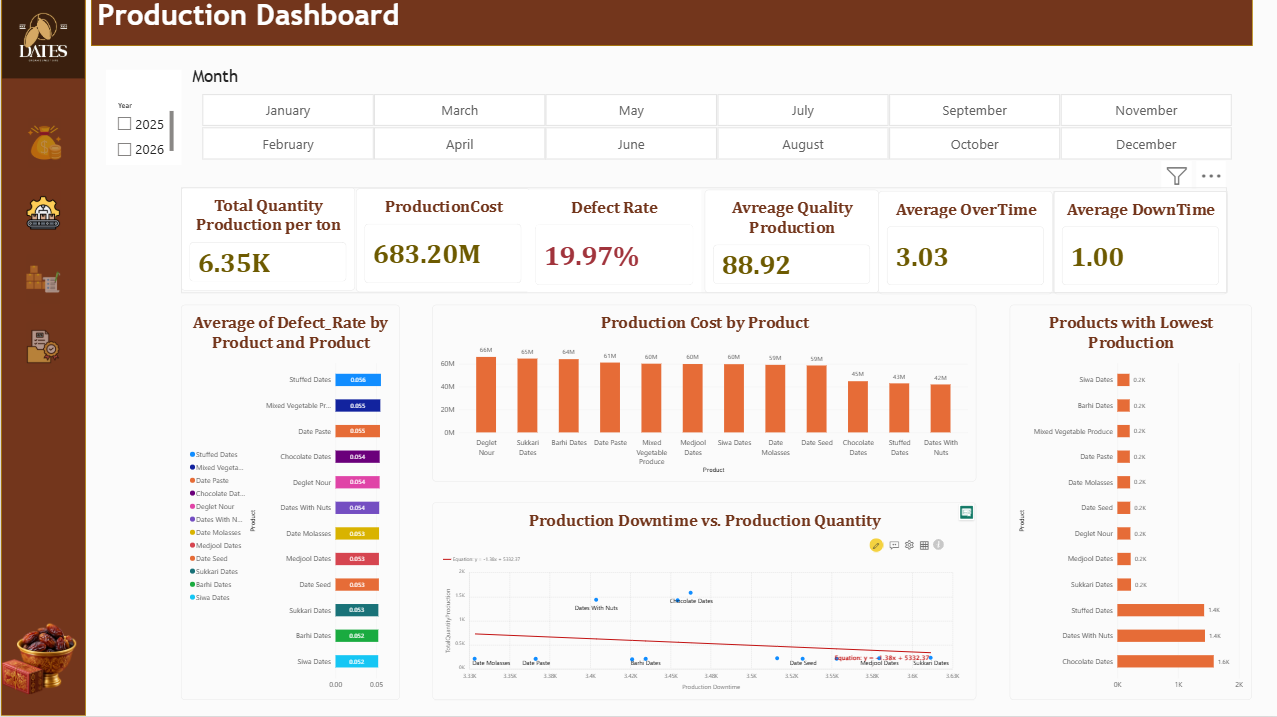

This screenshot's page, from the dashboard's own definition file:
{"tool":"powerbi","page":{"name":"Production","canvas":[1920,1080],"ordinal":2},"visuals":[{"type":"shape","box":[178,0,1741,85],"z":0},{"type":"shape","box":[0,0,170,1081],"z":1000},{"type":"image","box":[0,0,170,165],"z":2000},{"type":"textbox","title":"Production Dashboard","box":[191.7,1.7,741.7,116.7],"z":3000},{"type":"cardVisual","title":"Average DownTime","fields":{"Data":["MyMeasures.AVGDowntown"]},"box":[240,118.3,251.7,170],"z":4000},{"type":"cardVisual","title":"Average OverTime ","fields":{"Data":["MyMeasures.AVGOvertTime"]},"box":[491.7,118.3,241.7,170],"z":5000},{"type":"columnChart","title":"Production Cost by Product","fields":{"Category":["productDim.Product"],"Y":["MyMeasures.ProductioCost"]},"box":[232,327.9,612.2,272.1],"z":6000},{"type":"cardVisual","title":"Avreage Quality Production","fields":{"Data":["MyMeasures.AVGQuality"]},"box":[746,110,252,172],"z":8000},{"type":"image","box":[10.5,842.4,150,235.7],"z":9000},{"type":"barChart","title":"Products with Lowest Production","fields":{"Category":["productDim.Product"],"Y":["MyMeasures.TotalQuantityProduction"]},"box":[1411.7,336.7,403.3,711.7],"z":10000},{"type":"cardVisual","title":"ProductionCost","fields":{"Data":["MyMeasures.ProductioCost"]},"box":[1022.1,115.1,245,165],"z":11000},{"type":"image","box":[413.3,196.7,66.7,73.3],"z":12000},{"type":"image","box":[660,203.3,58.3,71.7],"z":13000},{"type":"image","box":[917.4,205.8,62.8,69.8],"z":14000},{"type":"cardVisual","title":"Defect Rate","fields":{"Data":["MyMeasures.DefectRate"]},"box":[1297.7,109.9,228.3,165],"z":15000},{"type":"image","box":[1453.3,191.7,73.3,64.5],"z":16000},{"type":"image","box":[1186,188.4,62.8,109.9],"z":17000},{"type":"cardVisual","title":"Total Quantity Production per ton","fields":{"Data":["MyMeasures.TotalQuantityProduction"]},"box":[1566.3,104.7,286.7,171.7],"z":18000},{"type":"image","box":[1782.6,197.1,69.8,66.3],"z":19000},{"type":"performanceBubbleChartFBAAA829CB604E5CAB4F21729F233294","title":"Production Downtime vs. Production Quantity","fields":{"ymeasure":["MyMeasures.TotalQuantityProduction"],"category":["productDim.Product"],"xmeasure":["MyMeasures.Production Downtime"]},"box":[747.1,644.3,622.9,402.9],"z":20000},{"type":"actionButton","box":[50.6,235.5,69,102],"z":21000},{"type":"actionButton","box":[50.6,368,69,102],"z":22000},{"type":"actionButton","box":[50.6,514.5,69,102],"z":23000},{"type":"actionButton","box":[50.6,770.9,69,102],"z":24000},{"type":"actionButton","box":[50.6,643.6,69,102],"z":25000},{"type":"slicer","title":"Year","fields":{"Values":["DateDim.Date.Variation.Date Hierarchy.Year"]},"box":[232.6,664.8,214.1,382.8],"z":26000},{"type":"slicer","title":"Month","fields":{"Values":["DateDim.Date.Variation.Date Hierarchy.Month"]},"box":[491.9,654.5,197.6,393.1],"z":27000},{"type":"barChart","fields":{"Category":["productDim.Product"],"Series":["productDim.Product"],"Y":["Avg(FactTransaction.Defect_Rate)"]},"box":[872.1,327.9,497.1,272.1],"z":27001}]}

Visuals, with their boxes on the page's 1920x1080 design canvas (x1, y1, x2, y2). These are canvas units, not pixel positions in the 1277x717 screenshot, which may show the page scaled, cropped or inside an application window:
shape: bbox=(178, 0, 1919, 85)
shape: bbox=(0, 0, 170, 1081)
image: bbox=(0, 0, 170, 165)
"Production Dashboard" textbox: bbox=(192, 2, 933, 118)
"Average DownTime" cardVisual: bbox=(240, 118, 492, 288)
"Average OverTime " cardVisual: bbox=(492, 118, 733, 288)
"Production Cost by Product" columnChart: bbox=(232, 328, 844, 600)
"Avreage Quality Production" cardVisual: bbox=(746, 110, 998, 282)
image: bbox=(10, 842, 160, 1078)
"Products with Lowest Production" barChart: bbox=(1412, 337, 1815, 1048)
"ProductionCost" cardVisual: bbox=(1022, 115, 1267, 280)
image: bbox=(413, 197, 480, 270)
image: bbox=(660, 203, 718, 275)
image: bbox=(917, 206, 980, 276)
"Defect Rate" cardVisual: bbox=(1298, 110, 1526, 275)
image: bbox=(1453, 192, 1527, 256)
image: bbox=(1186, 188, 1249, 298)
"Total Quantity Production per ton" cardVisual: bbox=(1566, 105, 1853, 276)
image: bbox=(1783, 197, 1852, 263)
"Production Downtime vs. Production Quantity" performanceBubbleChartFBAAA829CB604E5CAB4F21729F233294: bbox=(747, 644, 1370, 1047)
actionButton: bbox=(51, 236, 120, 338)
actionButton: bbox=(51, 368, 120, 470)
actionButton: bbox=(51, 514, 120, 616)
actionButton: bbox=(51, 771, 120, 873)
actionButton: bbox=(51, 644, 120, 746)
"Year" slicer: bbox=(233, 665, 447, 1048)
"Month" slicer: bbox=(492, 654, 690, 1048)
barChart - productDim.Product x productDim.Product: bbox=(872, 328, 1369, 600)
